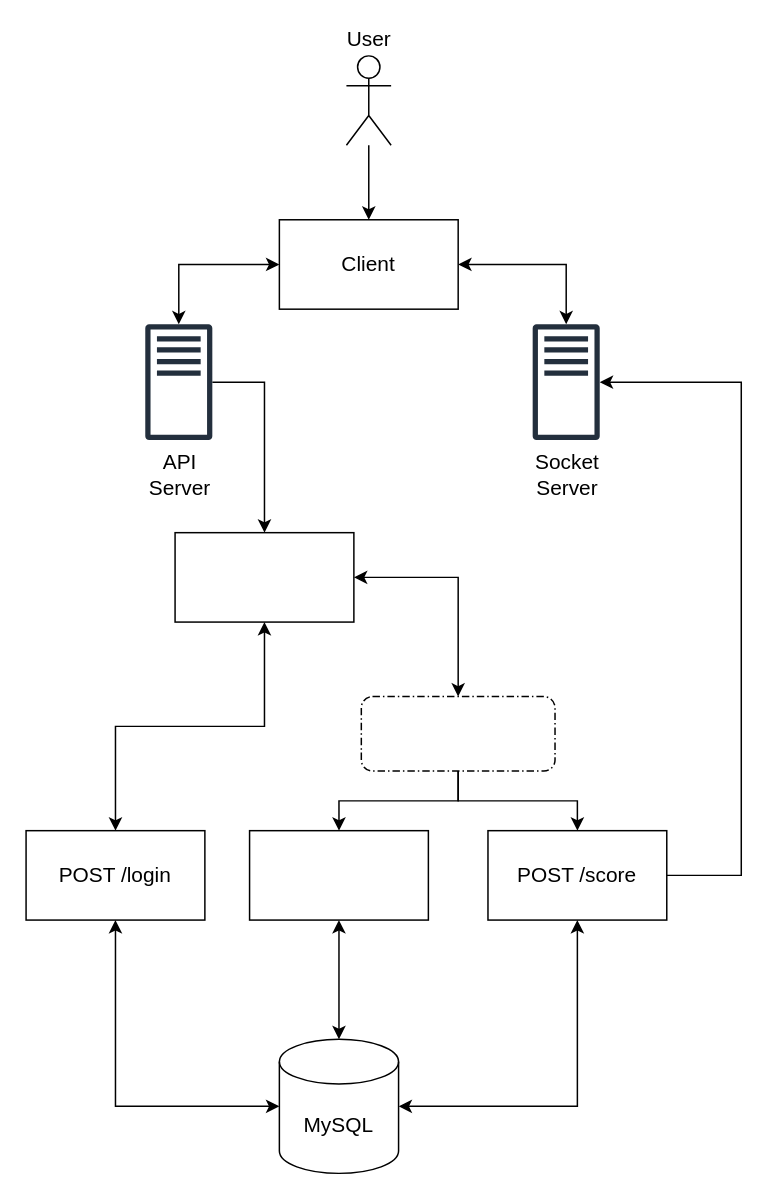
Image size: 779x1199. Some labels were removed from this diagram. Here are the shapes that lost their labels. From the top down, the centre of each, then its label:
At [264,576]: "UserAPI".
At [457,733]: "Authentication".
At [338,874]: "GET /leaderboard".
